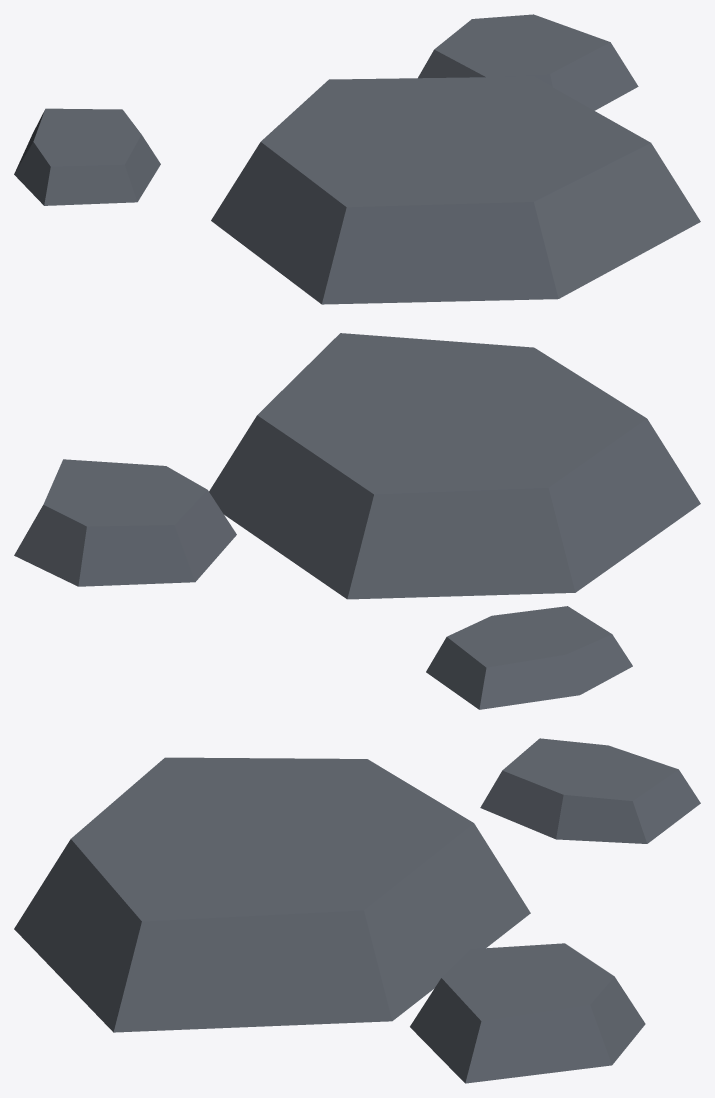
The model's file is Environment_Objects_Stone_02.fbx.
3 renders of one model, top to bottom at view 1: azimuth 30°, elevation 25°; view 2: azimuth 150°, elevation 25°; view 3: azimuth 270°, elevation 25°, orthographic. The views are drawn at different scales.
Parts seen in each view (by area): view 1: Environment_Objects_Stone_02; view 2: Environment_Objects_Stone_02; view 3: Environment_Objects_Stone_02.
Part boxes in pixels (x1=…): Environment_Objects_Stone_02: x1=14, y1=14, x2=700, y2=304; Environment_Objects_Stone_02: x1=14, y1=333, x2=700, y2=709; Environment_Objects_Stone_02: x1=14, y1=738, x2=700, y2=1083.
Bounding box in the file's own units: 61.5 × 8.17 × 56.41.
